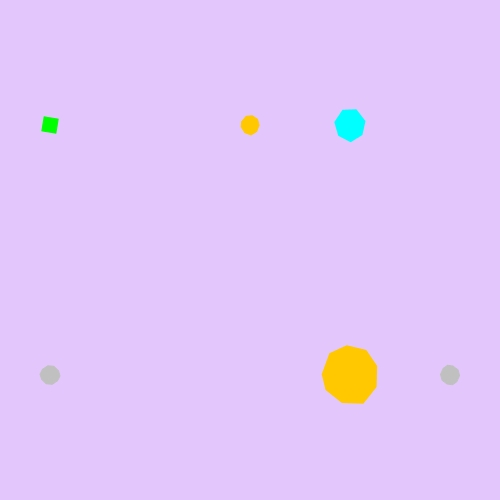decagon: (35, 361, 65, 389), (435, 361, 465, 389)
heptagon: (330, 106, 370, 145)
nonagon: (317, 344, 383, 407), (236, 111, 265, 139)
quadrilateral: (35, 110, 65, 140)
